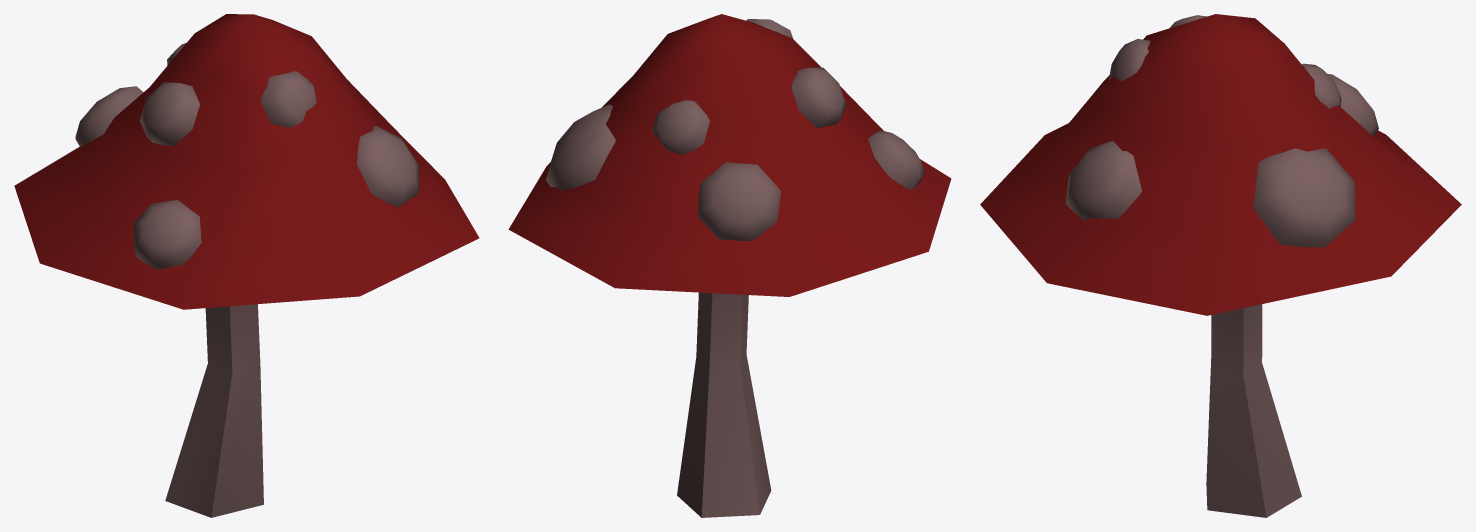
File: Mushroom_Red.fbx
The picture shows the model from 3 angles, left to right: view 1: azimuth 30°, elevation 25°; view 2: azimuth 150°, elevation 25°; view 3: azimuth 270°, elevation 25°; orthographic projection. The views are drawn at different scales.
Parts seen in each view (by area): view 1: Mushroom_red1; view 2: Mushroom_red1; view 3: Mushroom_red1.
Part boxes in pixels (x1=…): Mushroom_red1: x1=14, y1=14, x2=479, y2=517; Mushroom_red1: x1=508, y1=14, x2=951, y2=517; Mushroom_red1: x1=980, y1=14, x2=1461, y2=517.
Size of the model in its own units: 84.3 by 97.91 by 86.64.
